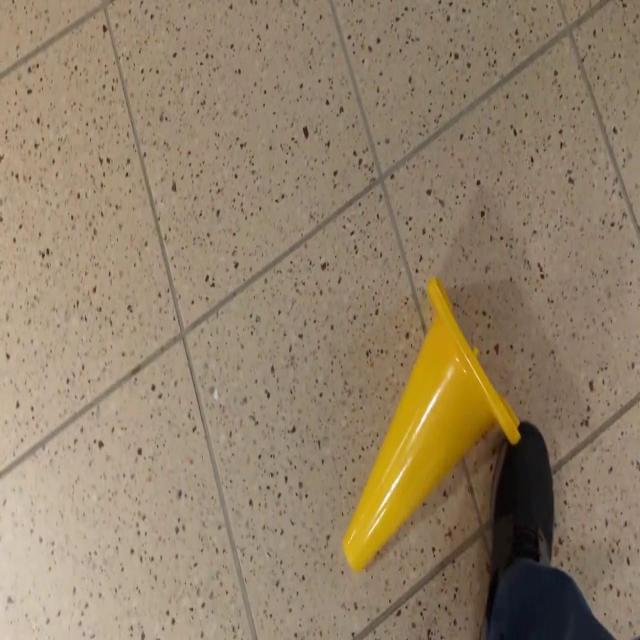frc_cone: (340, 269, 522, 577)
